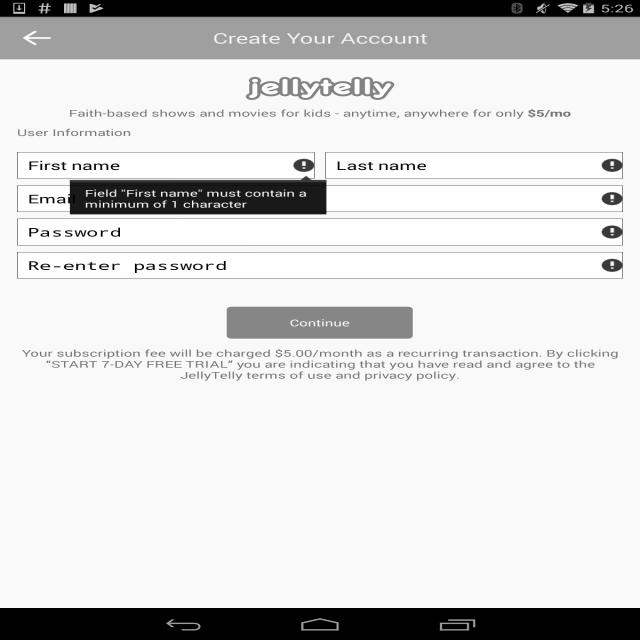Button: (225, 306, 414, 339)
EditText: (17, 185, 623, 212), (17, 252, 623, 279), (17, 219, 623, 245), (17, 152, 315, 179), (325, 152, 623, 179)
ImageButton: (17, 26, 54, 50)
ImageView: (245, 77, 395, 100)
TextView: (17, 347, 623, 381), (212, 17, 428, 59), (17, 107, 623, 119), (17, 126, 131, 139)
